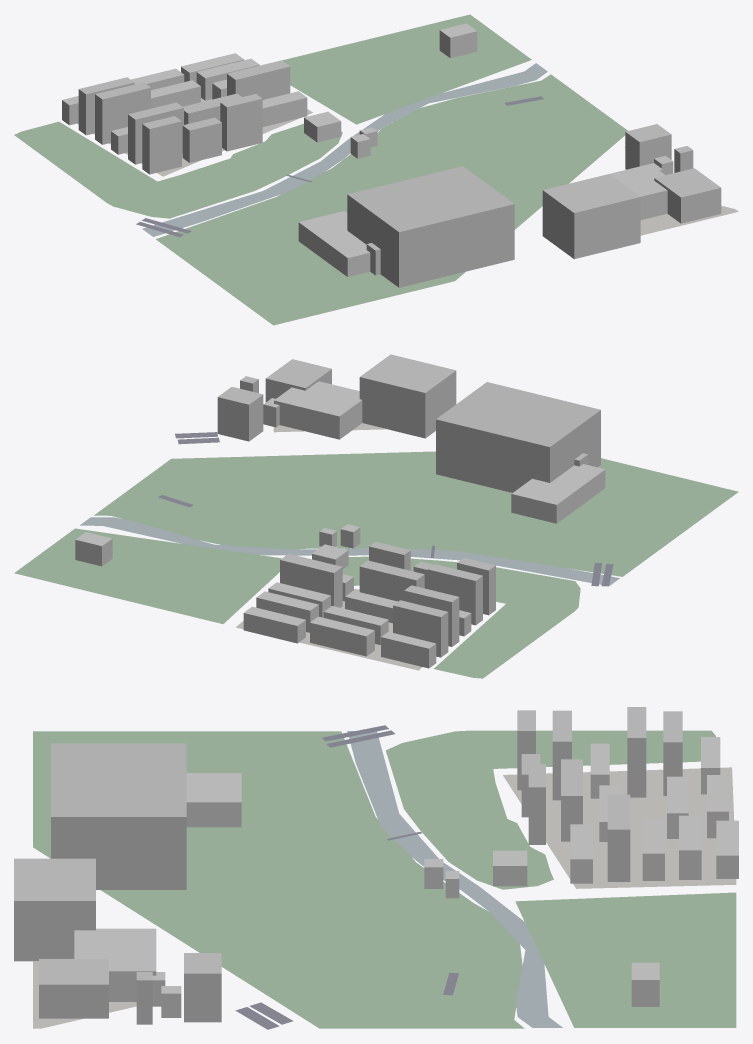
The model's file is 120_113_mid.glb.
3 renders of one model, top to bottom at view 1: azimuth 30°, elevation 25°; view 2: azimuth 150°, elevation 25°; view 3: azimuth 270°, elevation 25°, orthographic. The views are drawn at different scales.
Bounding box in the file's own units: 520 × 57.26 × 515.
